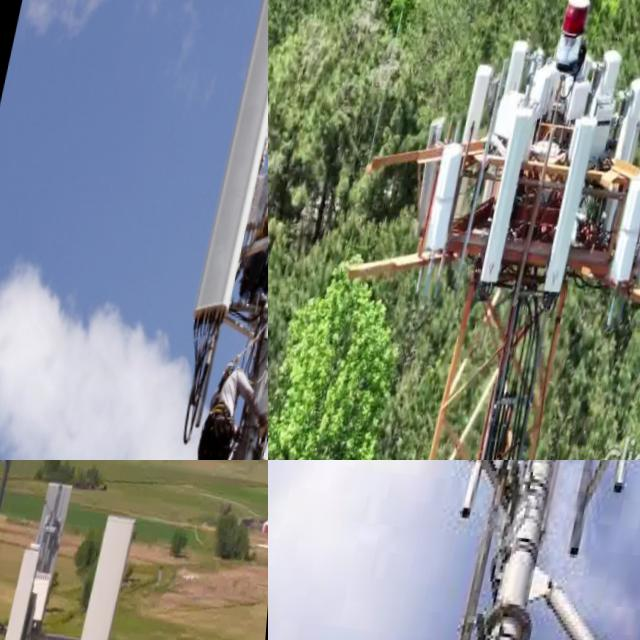GSM Antenna: (198, 0, 268, 330), (543, 93, 617, 303), (477, 94, 549, 295), (45, 505, 145, 640), (424, 133, 480, 265), (0, 543, 47, 640), (605, 161, 640, 290), (409, 113, 450, 223), (457, 56, 503, 148), (501, 37, 534, 111)
